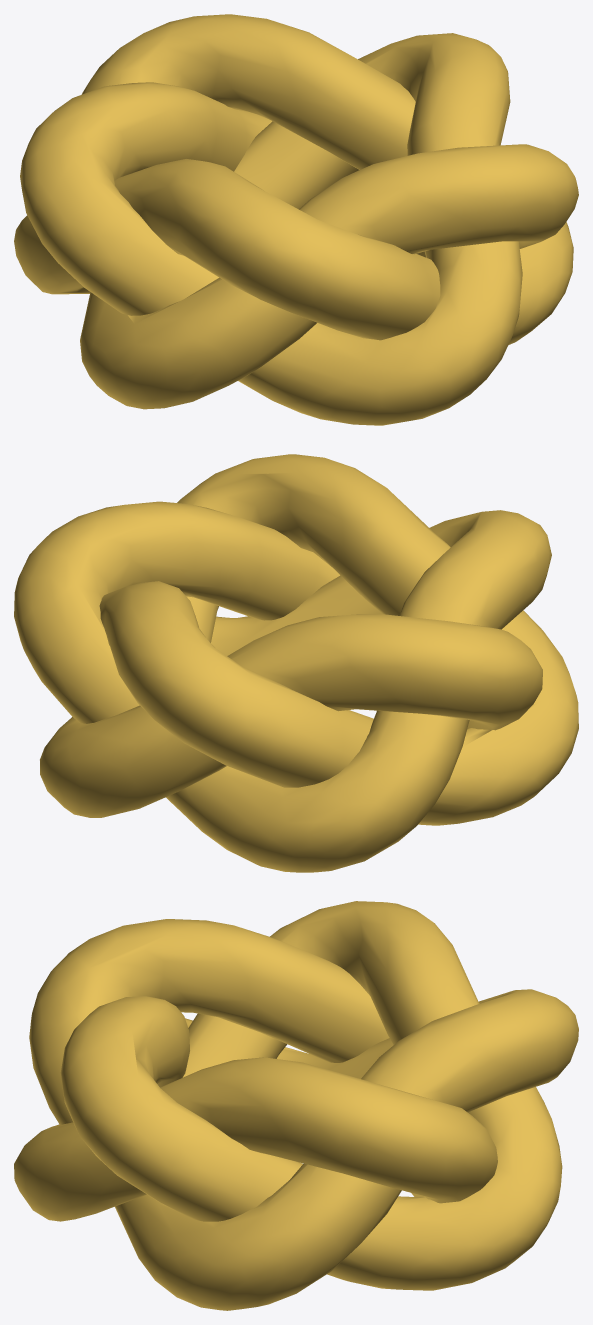
File: Spiral.fbx
3 renders of one model, top to bottom at view 1: azimuth 30°, elevation 25°; view 2: azimuth 150°, elevation 25°; view 3: azimuth 270°, elevation 25°, orthographic.
Visible parts, largest first — view 1: Archemedian Chain w Modifiers.001; view 2: Archemedian Chain w Modifiers.001; view 3: Archemedian Chain w Modifiers.001.
Boxes of the visible parts, x1,y1,x2,y2 form: Archemedian Chain w Modifiers.001: (14, 14, 578, 425); Archemedian Chain w Modifiers.001: (14, 454, 578, 872); Archemedian Chain w Modifiers.001: (14, 901, 578, 1310).
Bounding box in the file's own units: 1.94 × 0.8918 × 1.94.
